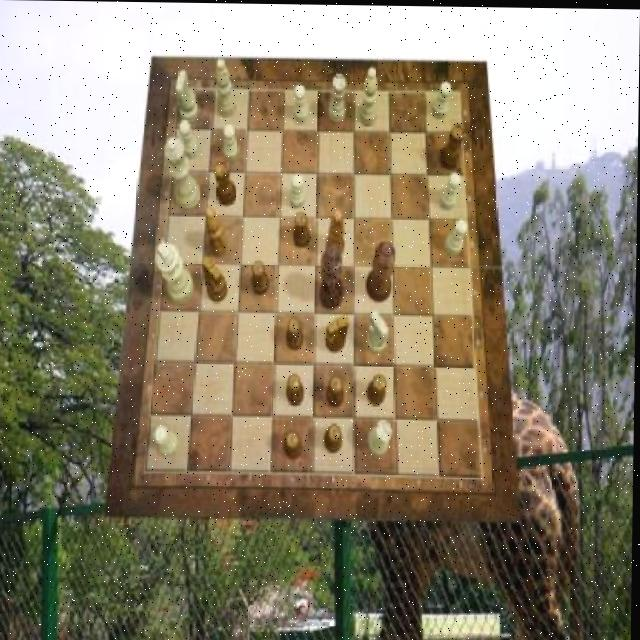bishop: (206, 205, 230, 257), (326, 208, 345, 260)
black-bishop: (320, 243, 345, 310)
black-king: (201, 256, 228, 303), (325, 313, 349, 352)
black-knight: (368, 373, 388, 405), (286, 317, 304, 352), (251, 260, 269, 294), (327, 374, 346, 406), (293, 211, 310, 246), (287, 374, 305, 407), (325, 424, 344, 453), (285, 431, 304, 459)
black-pawn: (367, 241, 397, 302)
black-queen: (438, 122, 465, 168), (213, 159, 237, 205)
black-rook: (216, 58, 238, 117), (359, 66, 378, 125)
white-bishop: (157, 240, 195, 303)
white-king: (176, 70, 199, 123), (367, 309, 390, 353)
white-knight: (445, 217, 468, 255), (440, 171, 463, 209), (179, 119, 200, 158), (431, 80, 452, 118), (155, 425, 180, 456), (292, 83, 308, 124), (224, 122, 240, 161), (288, 173, 306, 207)
white-pawn: (163, 137, 201, 210)
white-queen: (367, 420, 392, 456), (329, 73, 347, 123)
